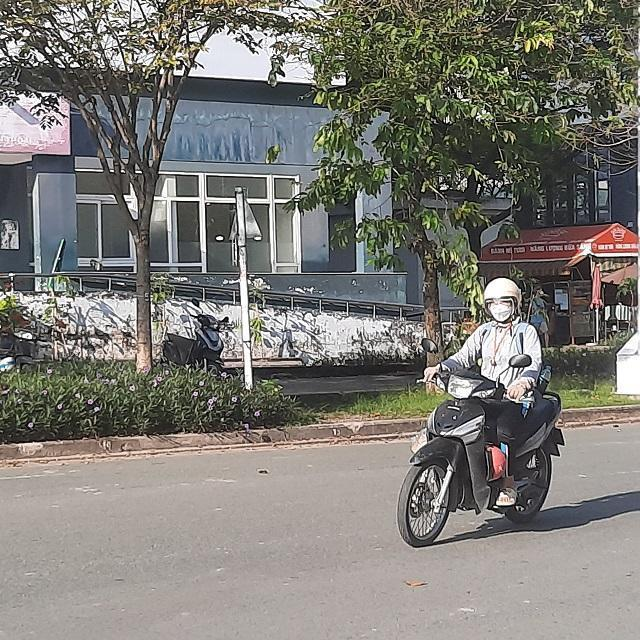Helmet: (478, 276, 526, 320)
